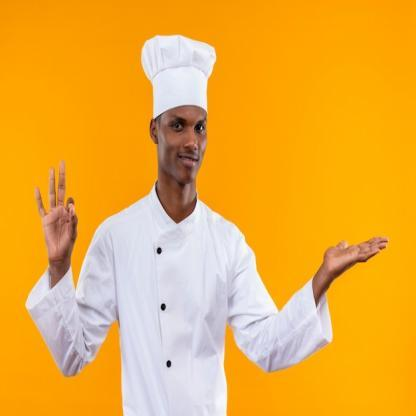ok: (35, 157, 80, 266)
